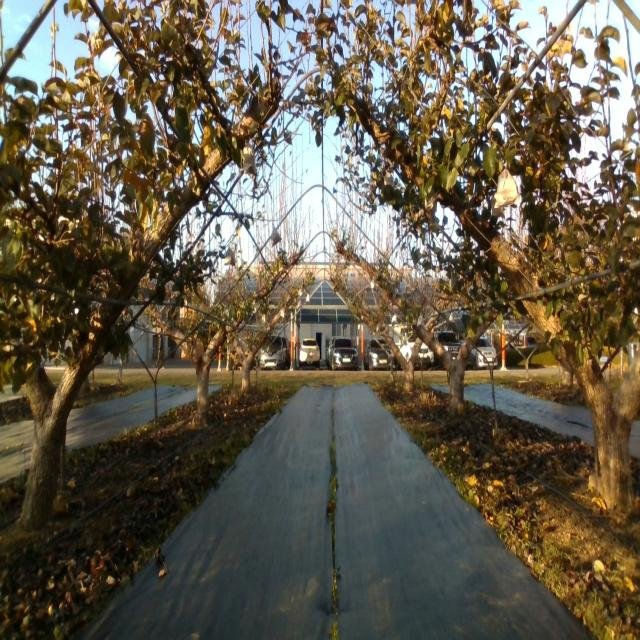pearbags: (494, 168, 522, 210), (242, 144, 257, 176), (223, 248, 236, 266), (272, 228, 282, 247)
